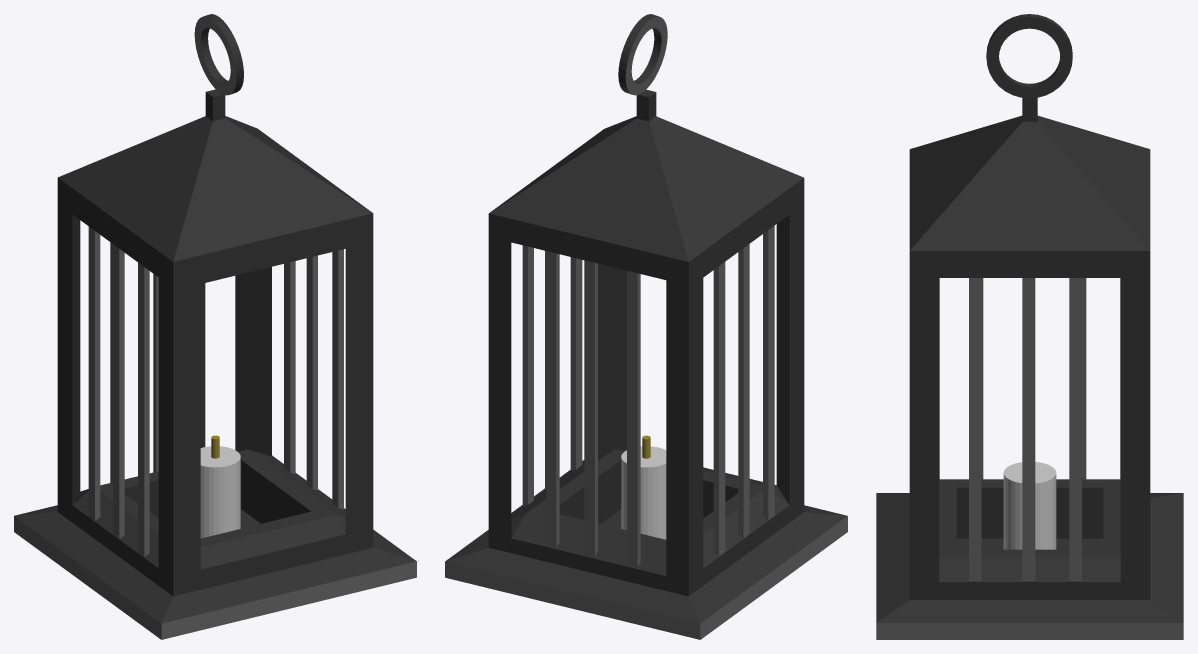
The model's file is HandHeldLantern.fbx.
The picture shows the model from 3 angles, left to right: view 1: azimuth 30°, elevation 25°; view 2: azimuth 150°, elevation 25°; view 3: azimuth 270°, elevation 25°; orthographic projection. The views are drawn at different scales.
Parts seen in each view (by area): view 1: Cube.007; view 2: Cube.007; view 3: Cube.007.
Part boxes in pixels (box(x1,y1,x2,y2)): Cube.007: box(14, 14, 416, 639); Cube.007: box(445, 14, 847, 639); Cube.007: box(876, 14, 1183, 639).
Bounding box in the file's own units: 17.51 × 35.18 × 17.51.
